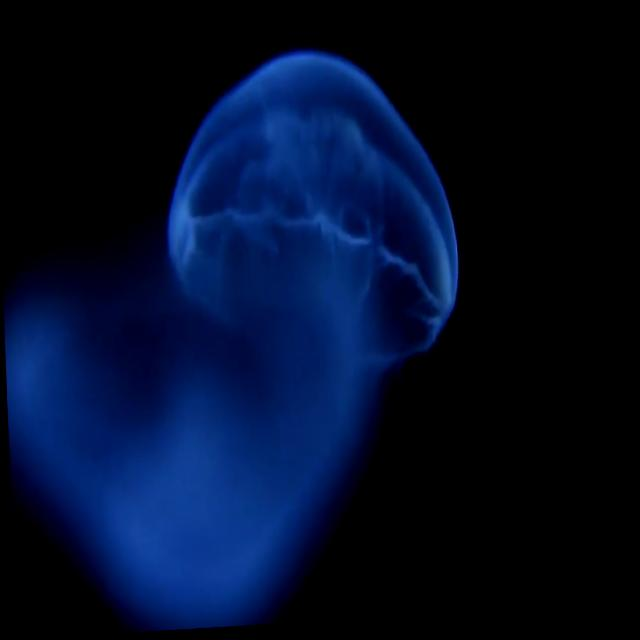Moon-jellyfish: (166, 53, 456, 378)
